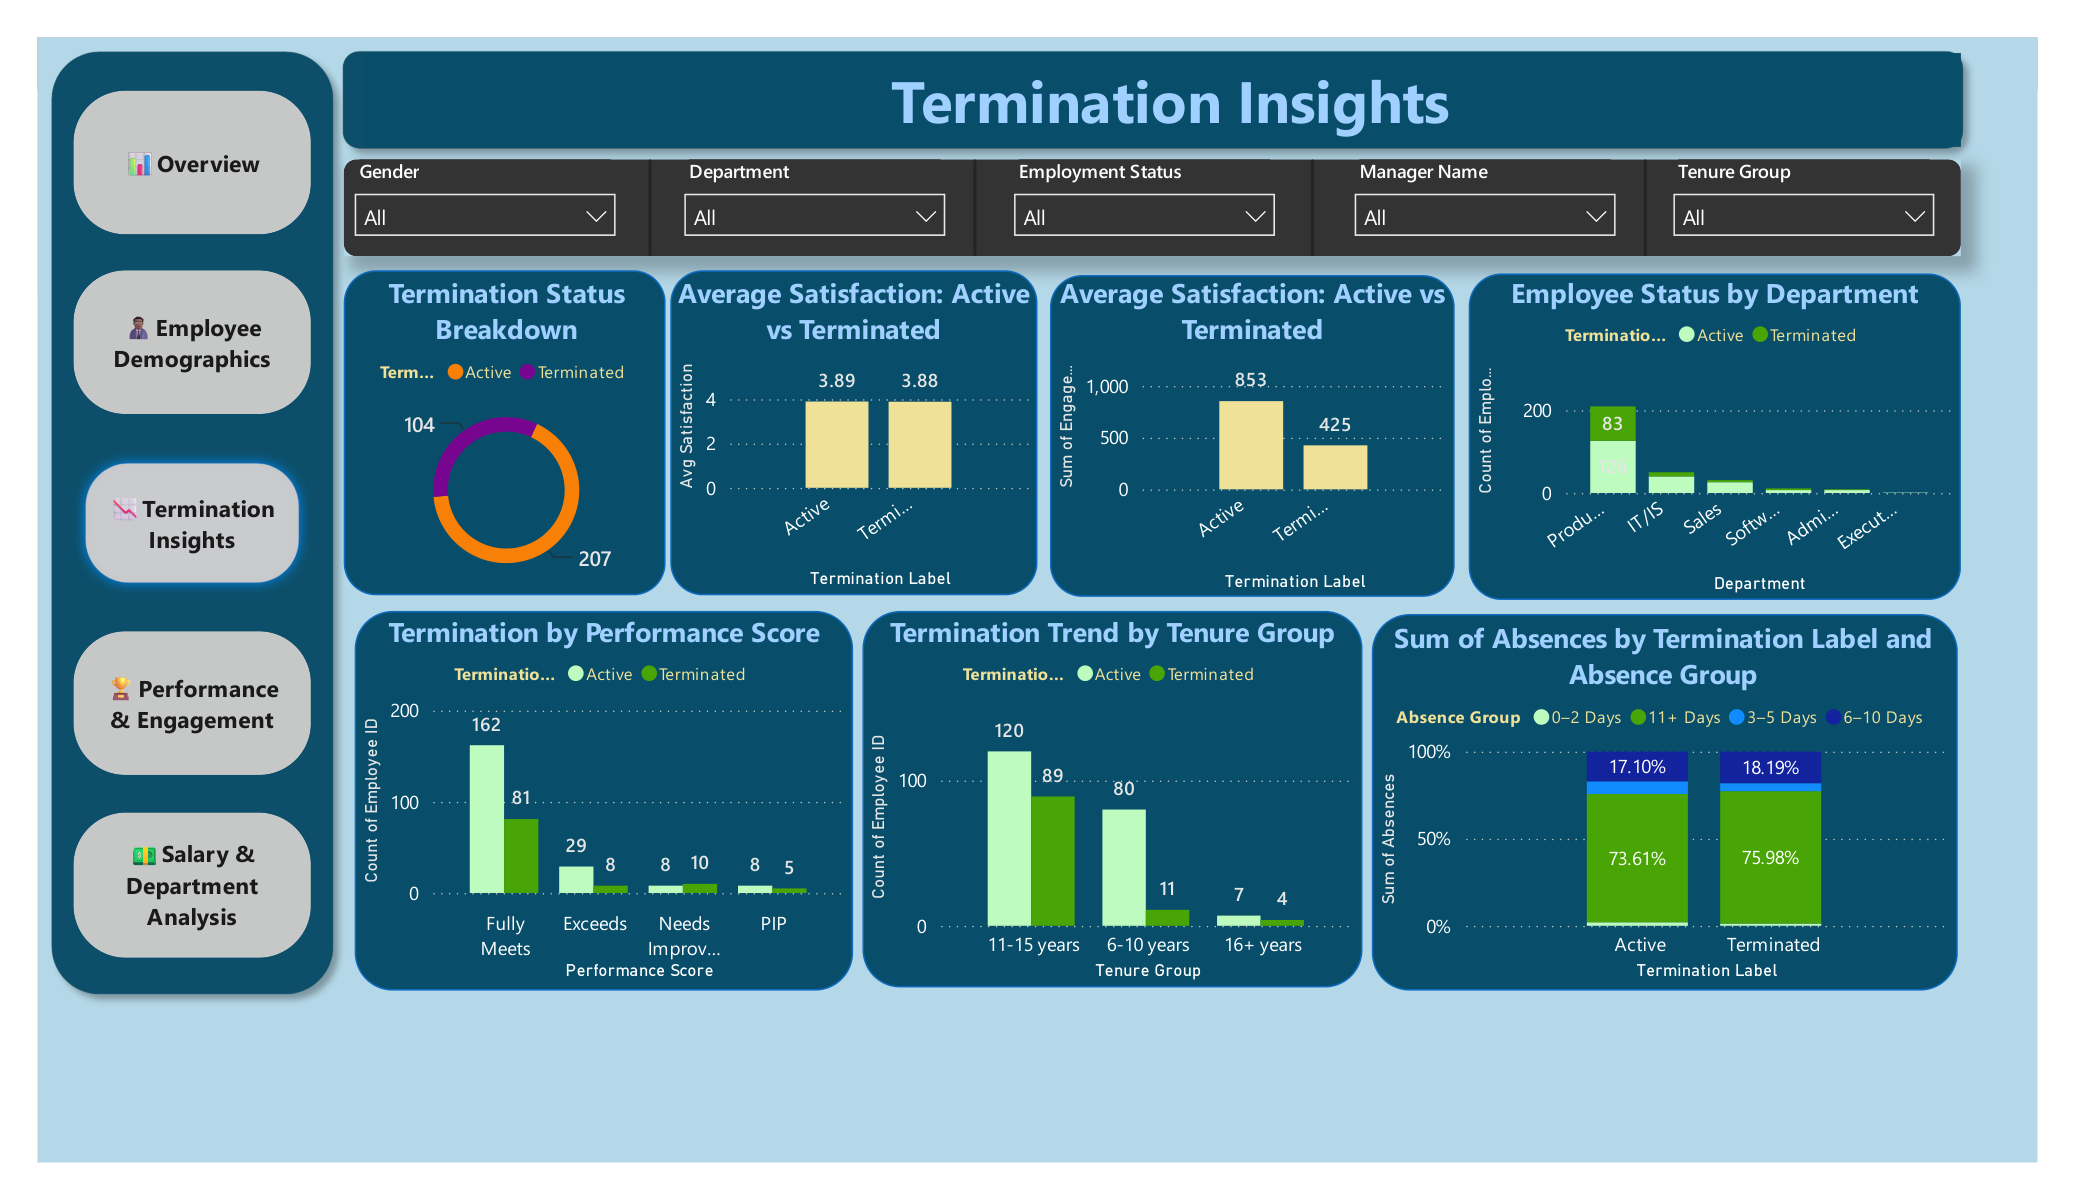

This screenshot's page, from the dashboard's own definition file:
{"tool":"powerbi","page":{"name":"Termination Insights","canvas":[1280,720],"ordinal":2},"visuals":[{"type":"shape","box":[0,0,198,621.4],"z":0},{"type":"actionButton","box":[23.1,33.7,152,91.8],"z":1000},{"type":"actionButton","box":[23.1,149.2,152,91.8],"z":2000},{"type":"actionButton","box":[23.1,264.8,152,91.8],"z":3000},{"type":"actionButton","box":[23.1,380.4,152,91.8],"z":4000},{"type":"actionButton","box":[23.1,495.9,152,92.9],"z":5000},{"type":"shape","box":[187,0,1054,80],"z":6000},{"type":"textbox","box":[209,10,1022,60],"z":7000},{"type":"shape","box":[196,78,1035,62],"z":8000},{"type":"slicer","fields":{"Values":["HRDataset_v14.Gender"]},"box":[198,78,177,59],"z":9000},{"type":"shape","box":[365,78,54,62],"z":10000},{"type":"slicer","fields":{"Values":["HRDataset_v14.Department"]},"box":[409,78,177,65],"z":11000},{"type":"slicer","fields":{"Values":["HRDataset_v14.Employment Status"]},"box":[620,78,177,64],"z":12000},{"type":"slicer","fields":{"Values":["HRDataset_v14.Manager Name"]},"box":[838,78,177,59],"z":13000},{"type":"slicer","fields":{"Values":["HRDataset_v14.Tenure Group"]},"box":[1042,78,177,62],"z":14000},{"type":"shape","box":[573,78,54,62],"z":15000},{"type":"shape","box":[789,78,54,62],"z":16000},{"type":"shape","box":[196,149,206,208],"z":17000},{"type":"shape","box":[1002,78,54,62],"z":18000},{"type":"shape","box":[405,149,235,208],"z":19000},{"type":"shape","box":[648,152,259,206],"z":20000},{"type":"shape","box":[854,369,375,241],"z":21000},{"type":"shape","box":[916,151,315,209],"z":22000},{"type":"donutChart","title":"Termination Status Breakdown","fields":{"Y":["CountNonNull(HRDataset_v14.Employee ID)"],"Category":["HRDataset_v14.Termination Label"]},"box":[198,152,204,205],"z":23000},{"type":"columnChart","title":"Employee Status by Department","fields":{"Category":["HRDataset_v14.Department"],"Y":["CountNonNull(HRDataset_v14.Employee ID)"],"Series":["HRDataset_v14.Termination Label"]},"box":[916,152,315,208],"z":24000},{"type":"shape","box":[528,367,320,241],"z":24500},{"type":"clusteredColumnChart","title":"Termination Trend by Tenure Group","fields":{"Category":["HRDataset_v14.Tenure Group"],"Y":["CountNonNull(HRDataset_v14.Employee ID)"],"Series":["HRDataset_v14.Termination Label"]},"box":[528,369,320,239],"z":25000},{"type":"shape","box":[203,367,319,243],"z":25500},{"type":"clusteredColumnChart","title":"Termination by Performance Score","fields":{"Y":["CountNonNull(HRDataset_v14.Employee ID)"],"Category":["HRDataset_v14.Performance Score"],"Series":["HRDataset_v14.Termination Label"]},"box":[203,369,319,239],"z":26000},{"type":"clusteredColumnChart","title":"Average Satisfaction: Active vs Terminated","fields":{"Y":["Avg(HRDataset_v14.Employee Satisfaction)"],"Category":["HRDataset_v14.Termination Label"]},"box":[405,152,235,205],"z":29000},{"type":"clusteredColumnChart","title":"Average Satisfaction: Active vs Terminated","fields":{"Category":["HRDataset_v14.Termination Label"],"Y":["Sum(HRDataset_v14.Engagement Score)"]},"box":[648,152,259,207],"z":30000},{"type":"hundredPercentStackedColumnChart","fields":{"Category":["HRDataset_v14.Termination Label"],"Series":["HRDataset_v14.Absence Group"],"Y":["Sum(HRDataset_v14.Absences)"]},"box":[854,373,373,235],"z":31000}]}

Visuals, with their boxes on the page's 1280x720 design canvas (x1, y1, x2, y2). These are canvas units, not pixel positions in the 2075x1200 screenshot, which may show the page scaled, cropped or inside an application window:
shape: (0,0,198,621)
actionButton: (23,34,175,126)
actionButton: (23,149,175,241)
actionButton: (23,265,175,357)
actionButton: (23,380,175,472)
actionButton: (23,496,175,589)
shape: (187,0,1241,80)
textbox: (209,10,1231,70)
shape: (196,78,1231,140)
slicer - HRDataset_v14.Gender: (198,78,375,137)
shape: (365,78,419,140)
slicer - HRDataset_v14.Department: (409,78,586,143)
slicer - HRDataset_v14.Employment Status: (620,78,797,142)
slicer - HRDataset_v14.Manager Name: (838,78,1015,137)
slicer - HRDataset_v14.Tenure Group: (1042,78,1219,140)
shape: (573,78,627,140)
shape: (789,78,843,140)
shape: (196,149,402,357)
shape: (1002,78,1056,140)
shape: (405,149,640,357)
shape: (648,152,907,358)
shape: (854,369,1229,610)
shape: (916,151,1231,360)
"Termination Status Breakdown" donutChart: (198,152,402,357)
"Employee Status by Department" columnChart: (916,152,1231,360)
shape: (528,367,848,608)
"Termination Trend by Tenure Group" clusteredColumnChart: (528,369,848,608)
shape: (203,367,522,610)
"Termination by Performance Score" clusteredColumnChart: (203,369,522,608)
"Average Satisfaction: Active vs Terminated" clusteredColumnChart: (405,152,640,357)
"Average Satisfaction: Active vs Terminated" clusteredColumnChart: (648,152,907,359)
hundredPercentStackedColumnChart - HRDataset_v14.Termination Label x HRDataset_v14.Absence Group: (854,373,1227,608)
